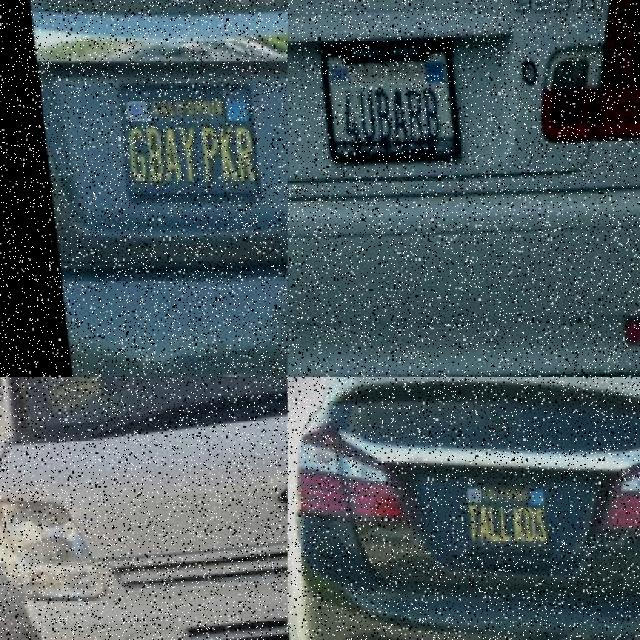licenseplate: (114, 59, 272, 207), (316, 20, 464, 165), (461, 464, 554, 550)
